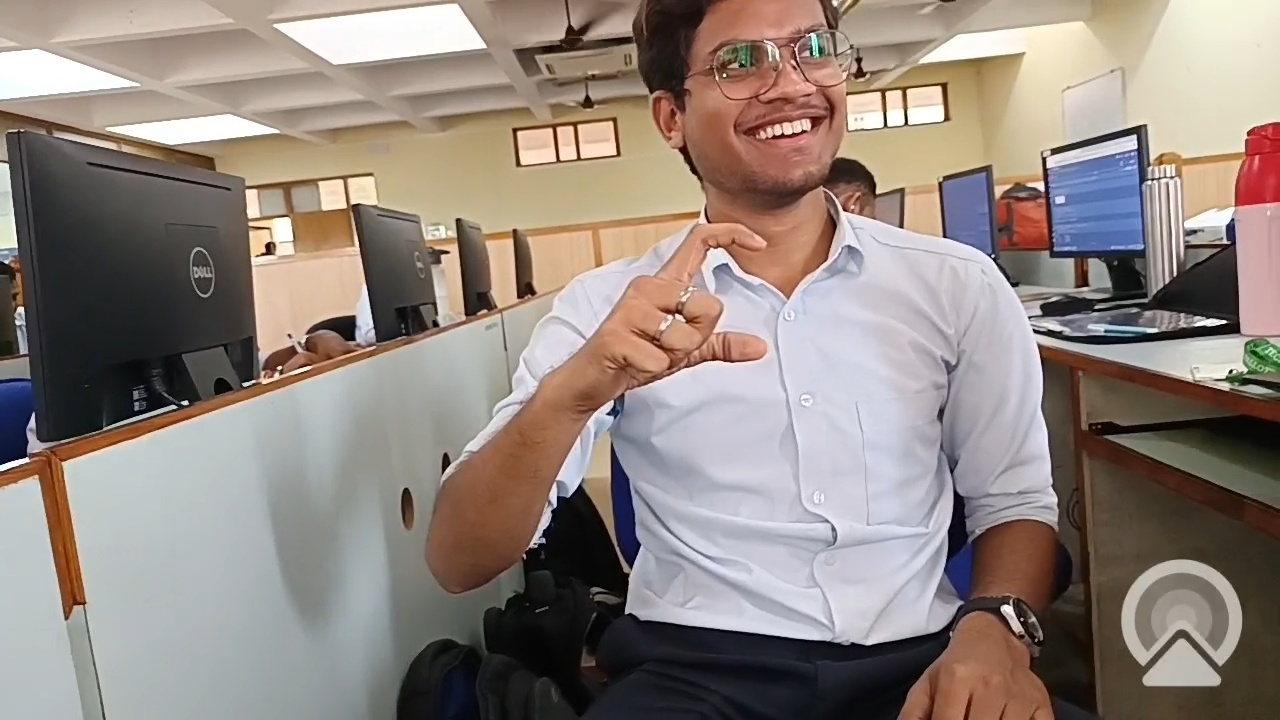C: (576, 222, 847, 431)
